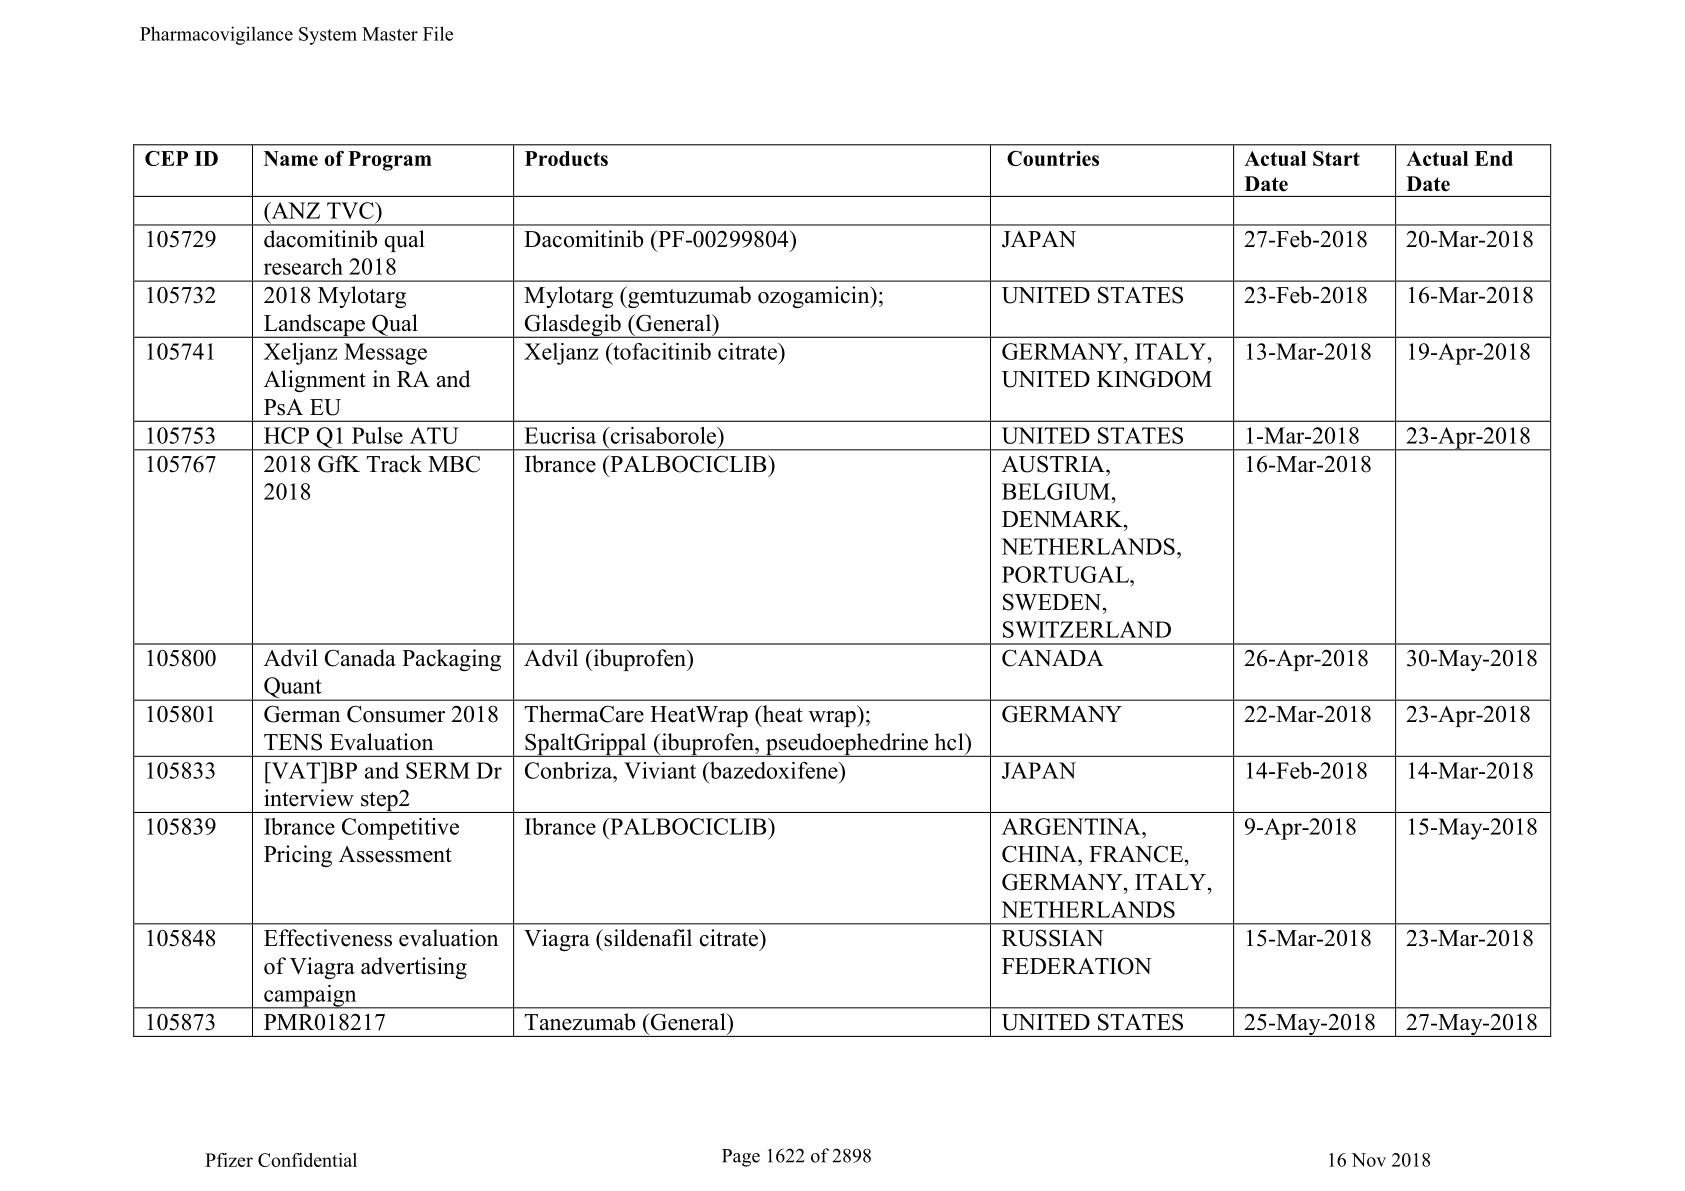full_lined: (124, 137, 1566, 1051)
